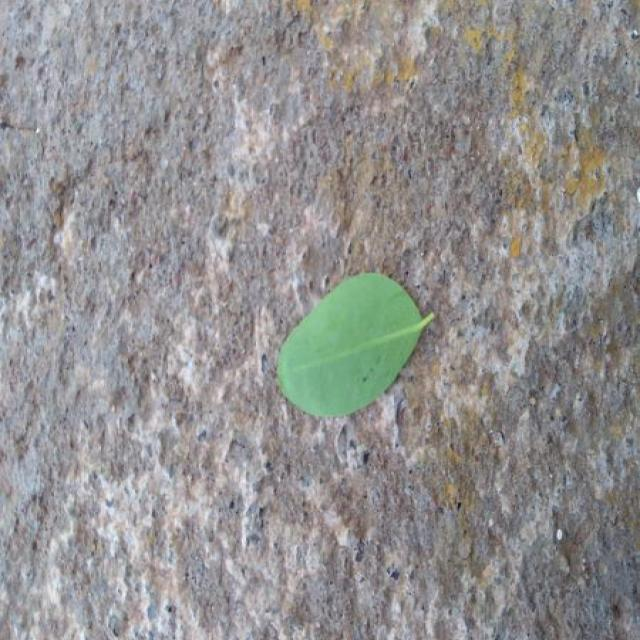drumstick: (278, 274, 433, 416)
